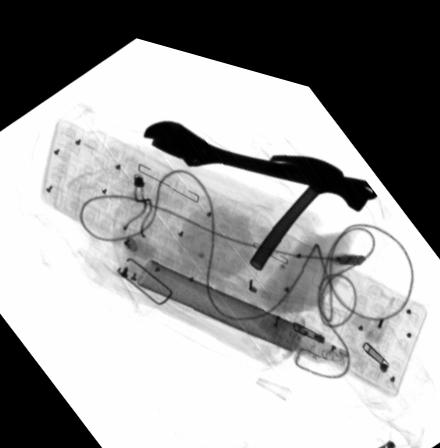Hammer: (247, 139, 371, 258)
Wrench: (143, 111, 376, 180)
